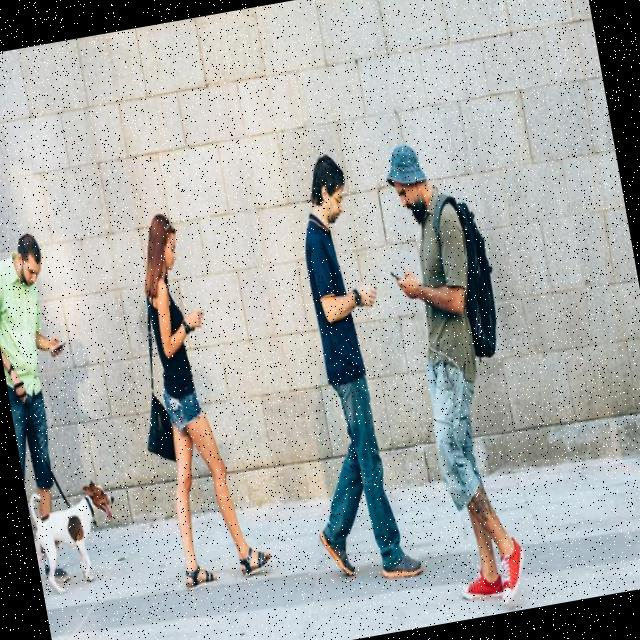Person: (368, 132, 548, 615), (254, 150, 428, 592), (108, 205, 275, 593), (0, 228, 107, 583)
